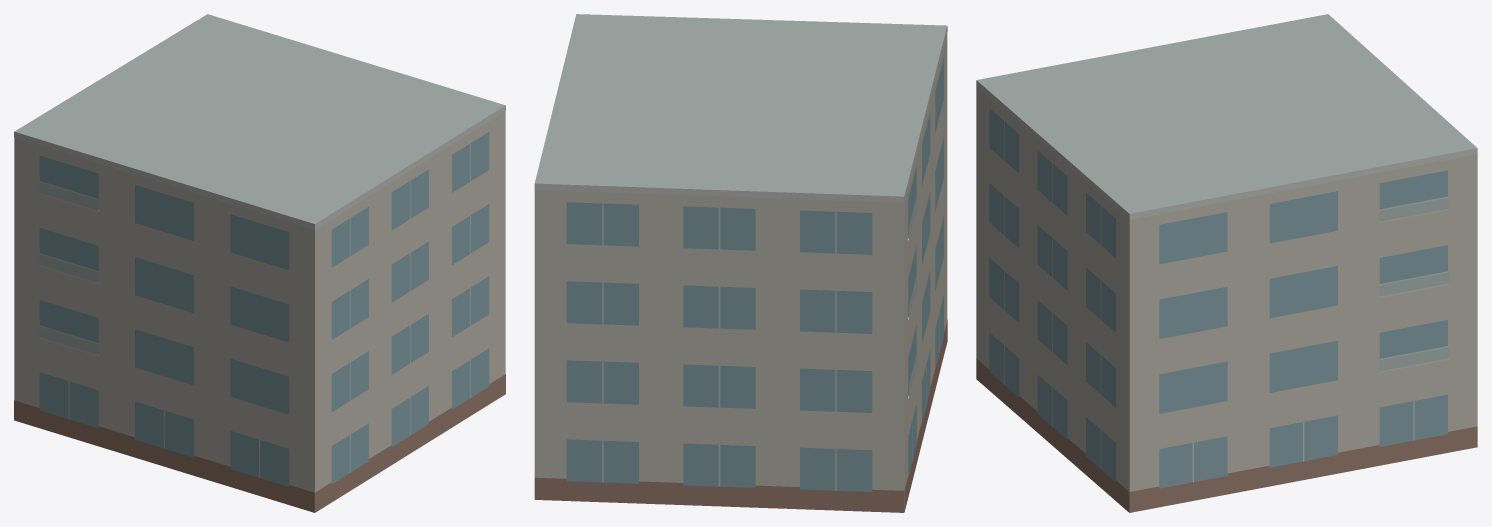
File: survey-upis-32590942.glb
3 renders of one model, left to right at view 1: azimuth 30°, elevation 25°; view 2: azimuth 150°, elevation 25°; view 3: azimuth 270°, elevation 25°, orthographic. The views are drawn at different scales.
Visible parts, largest first — view 1: survey-upis-32590942.tmp; view 2: survey-upis-32590942.tmp; view 3: survey-upis-32590942.tmp.
Part boxes in pixels (x1,y1,x2,y2): survey-upis-32590942.tmp: (14,14,505,512); survey-upis-32590942.tmp: (534,14,947,512); survey-upis-32590942.tmp: (976,14,1477,512).
Size of the model in its own units: 17.5 by 12.2 by 18.55.
